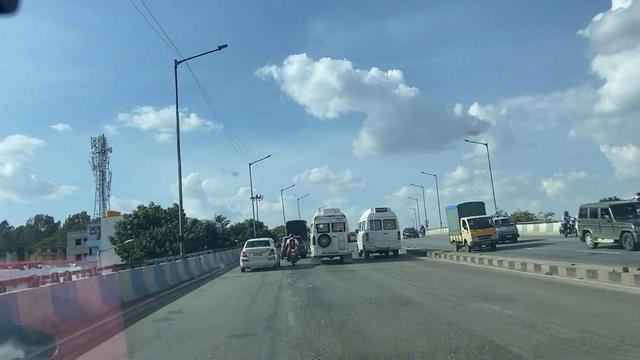HMV: (353, 205, 401, 262), (311, 207, 356, 263)
LMV: (229, 233, 281, 275), (281, 235, 299, 264)
